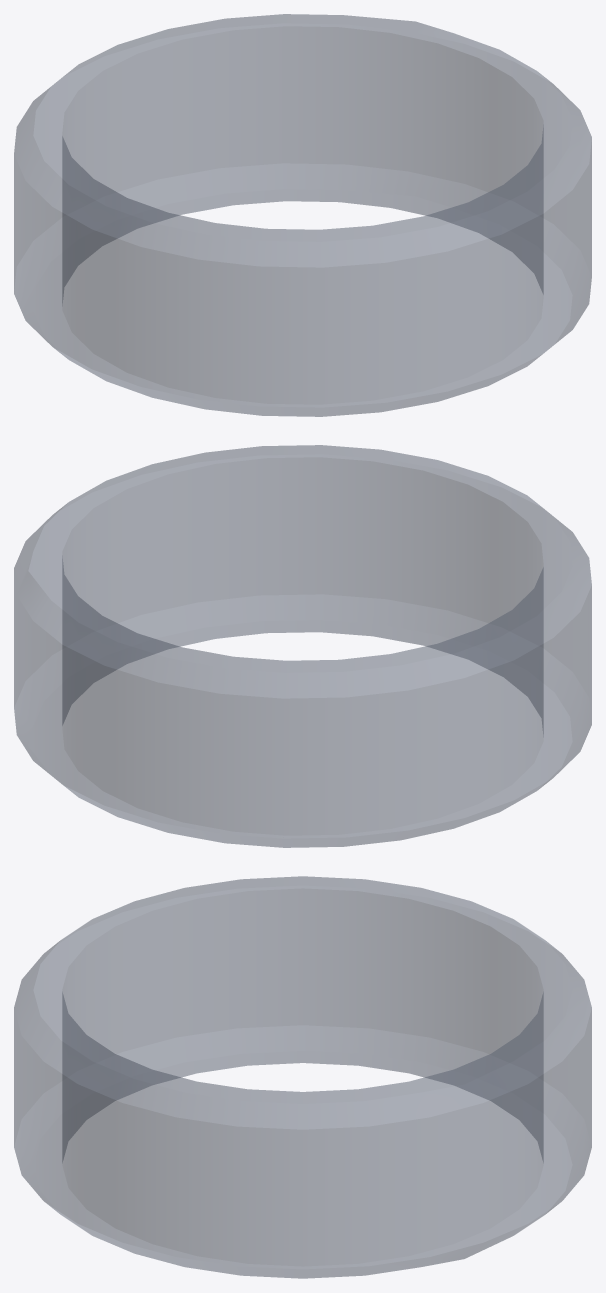
Rendered from 设备管道接口环.FBX.
3 renders of one model, top to bottom at view 1: azimuth 30°, elevation 25°; view 2: azimuth 150°, elevation 25°; view 3: azimuth 270°, elevation 25°, orthographic.
Parts seen in each view (by area): view 1: Donut044; view 2: Donut044; view 3: Donut044.
Part boxes in pixels (x1,y1,x2,y2): Donut044: (14,14,591,416); Donut044: (14,445,591,847); Donut044: (14,876,591,1278).
Bounding box in the file's own units: 3.54 × 1.18 × 3.54.
